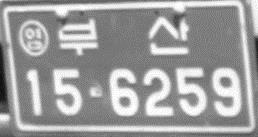-: (87, 83, 105, 100)
1: (22, 66, 44, 117)
2: (141, 66, 174, 117)
5: (175, 65, 208, 119), (51, 66, 83, 116)
6: (108, 66, 140, 117)
9: (211, 66, 243, 117)
부산_D: (55, 15, 190, 58)
영: (17, 17, 51, 56)
